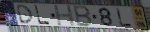8: (98, 7, 114, 28)
B: (73, 5, 94, 28)
D: (16, 5, 34, 25)
H: (53, 5, 77, 27)
L: (34, 4, 51, 26), (116, 8, 134, 28)
